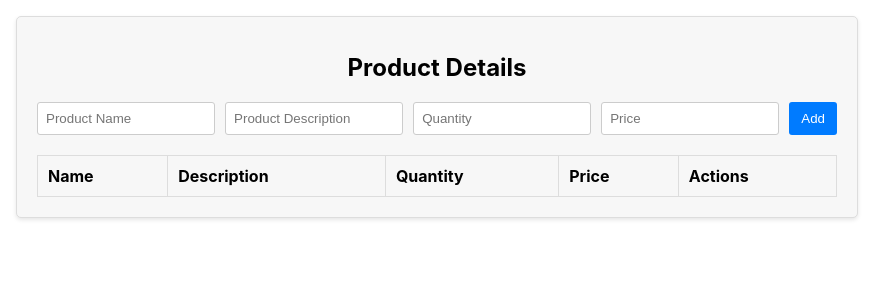
Test: App › deletes_a_product_when_delete_button_is_clicked
The image size is (875, 289).
In the field with placeholder "Product Name": (126, 119) [37, 102, 215, 135], type "Original Product"
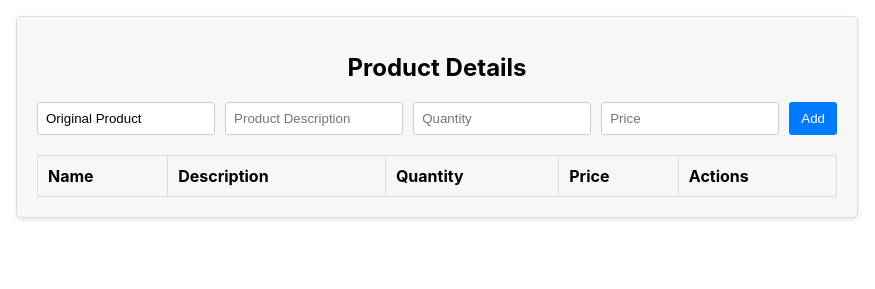
In the field with placeholder "Product Description": (314, 119) [225, 102, 403, 135], type "Original Description"
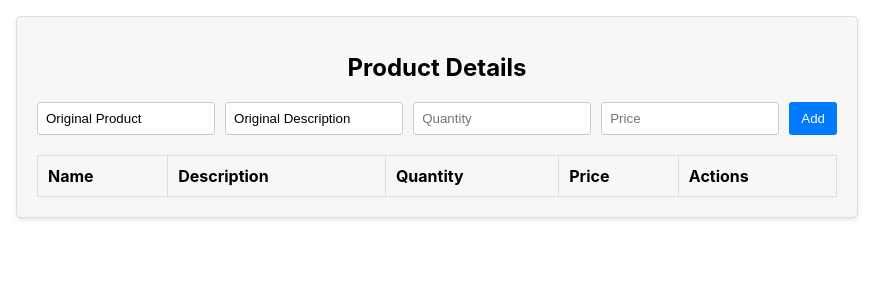
In the number field with placeholder "Quantity": (502, 119) [413, 102, 591, 135], type "5"
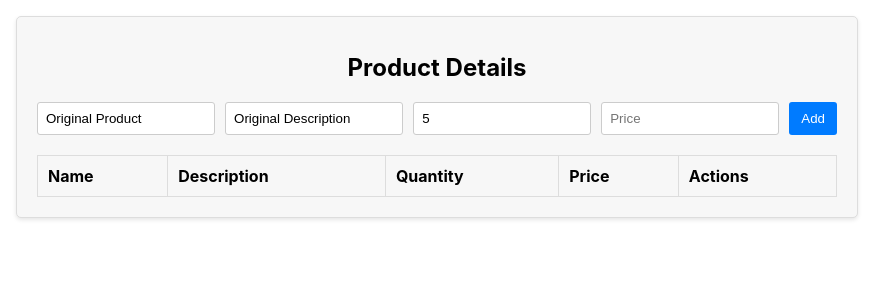
In the number field with placeholder "Price": (690, 119) [601, 102, 779, 135], type "15.00"
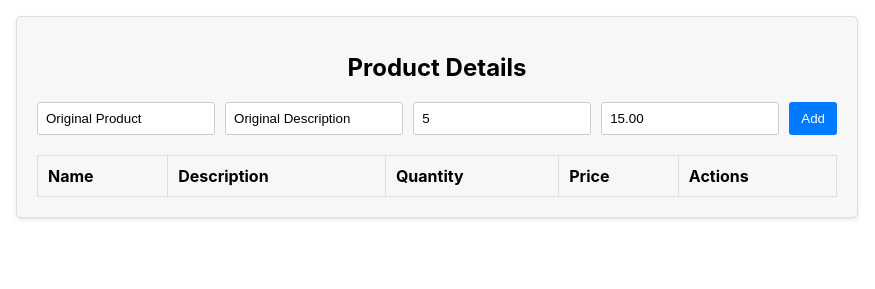
Click the button "Add": (813, 119) [789, 102, 837, 135]
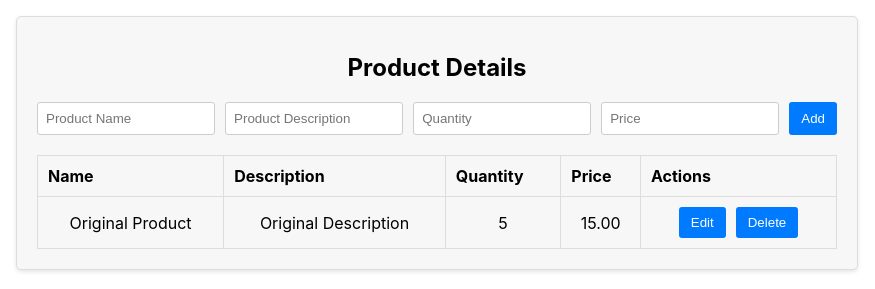
Now, click the 'Delete' button for the first product in the list
Click the button "Delete": (767, 223) [736, 207, 798, 238]
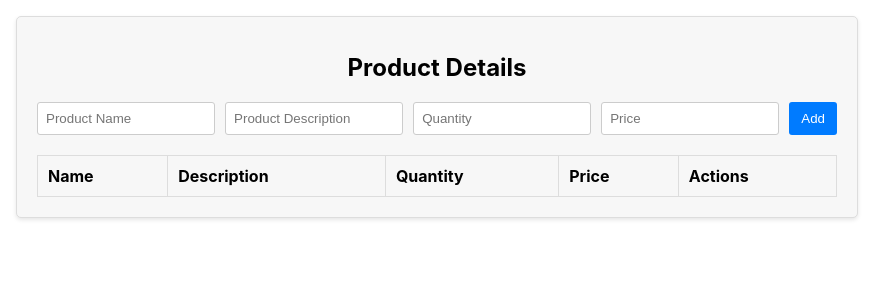
Now the text "Original Product" is gone
